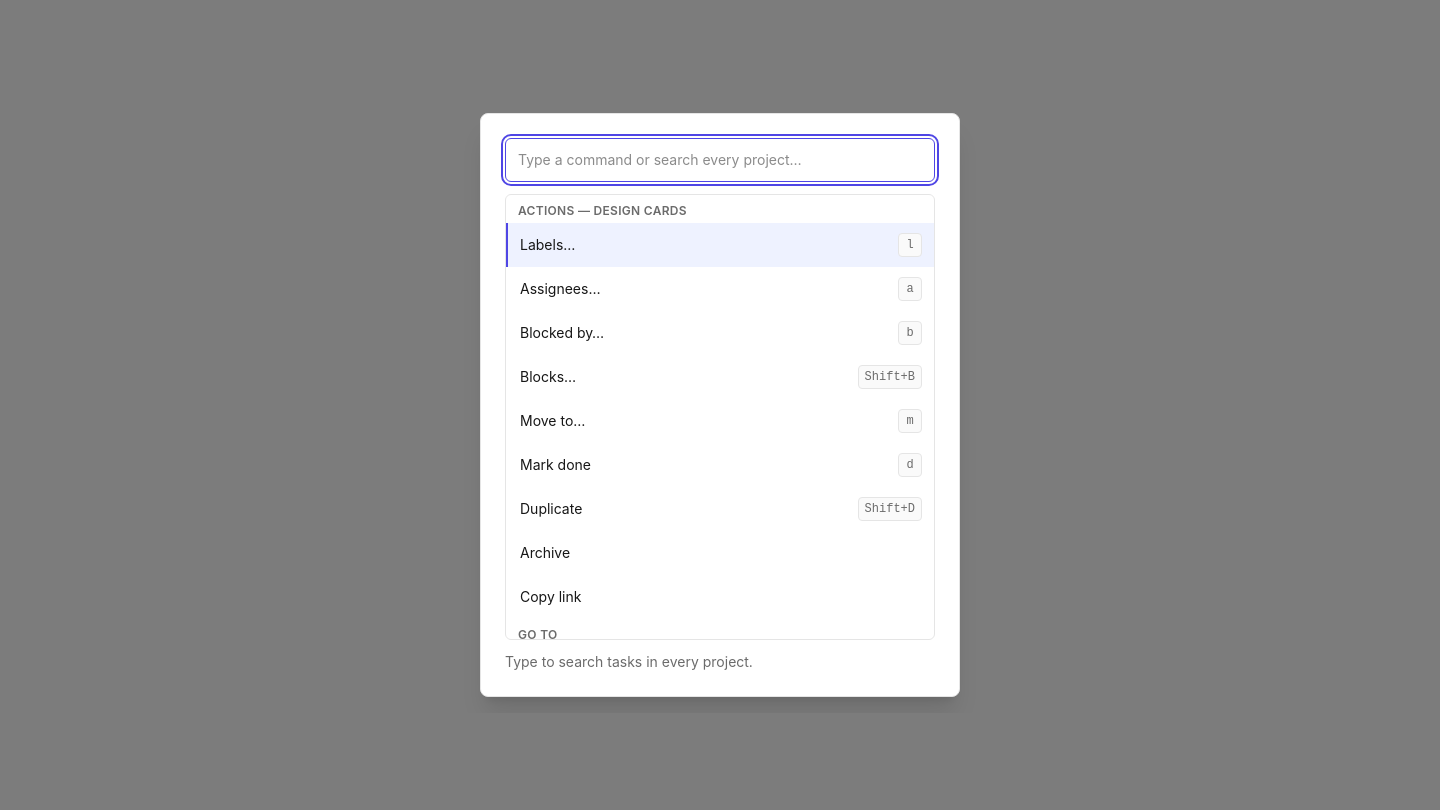
Scenario: rendering and grouping › finds an action from its initials alone
Type "mkdn" into the dropdown named "Command palette" at coordinates (720, 160), box [505,138,935,182]
Wait 250 ms
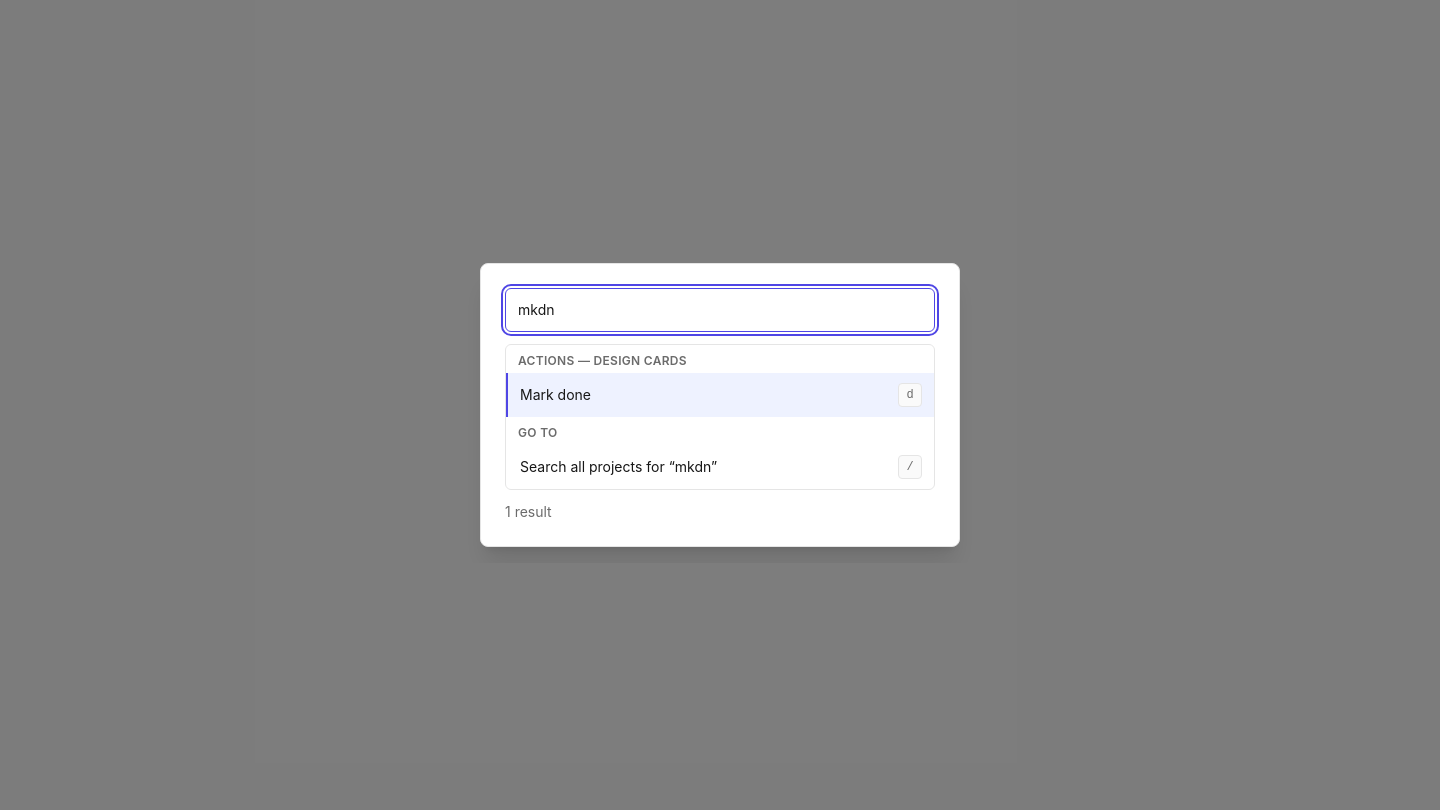
Expected: the message reads "1 result", [505,503,552,520]
